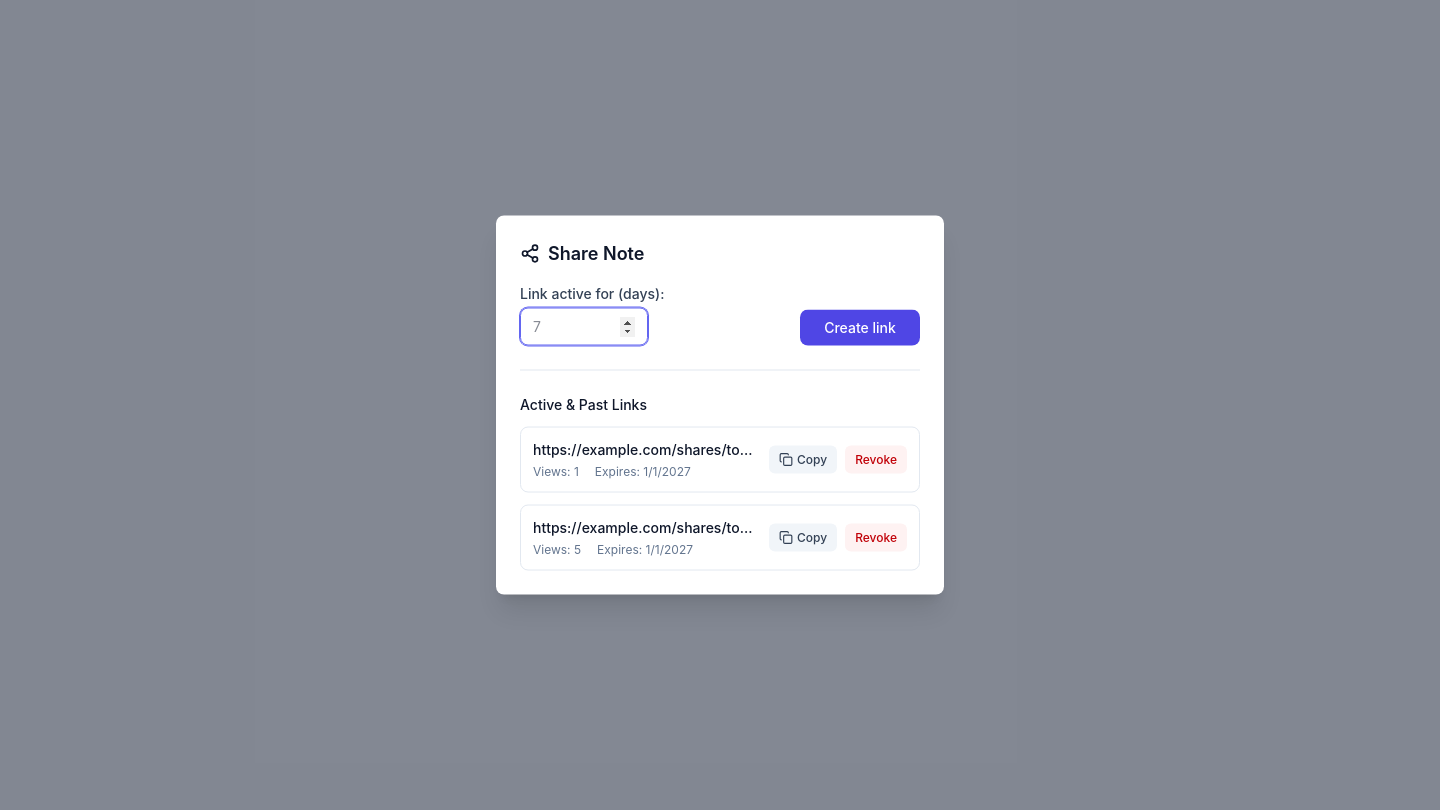
Test: ShareModal › Scenario 7: Two simultaneous links render and are manageable
Expected: the text "https://example.com/shares/token-1" is shown, top-left (533, 440), bottom-right (753, 460)
Expected: the text "https://example.com/shares/token-2" is shown, top-left (533, 518), bottom-right (753, 538)
Note: Clicking one opens the nested modal for it
Click the button "Revoke" in the row of "https://example.com/shares/token-1": (876, 460) top-left (845, 446), bottom-right (907, 474)
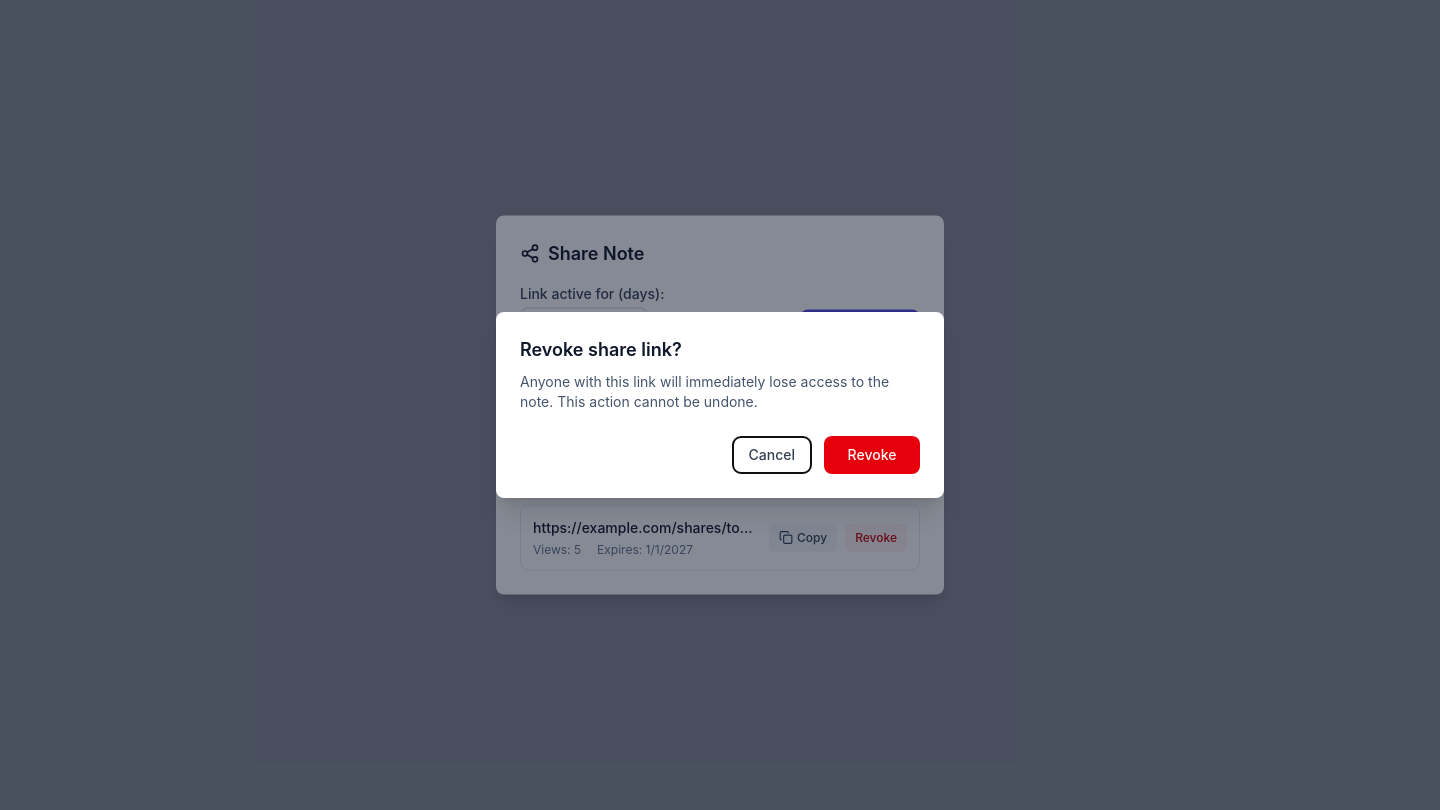
Now the heading "Revoke share link?" is shown, box top-left (520, 339), bottom-right (682, 360)
